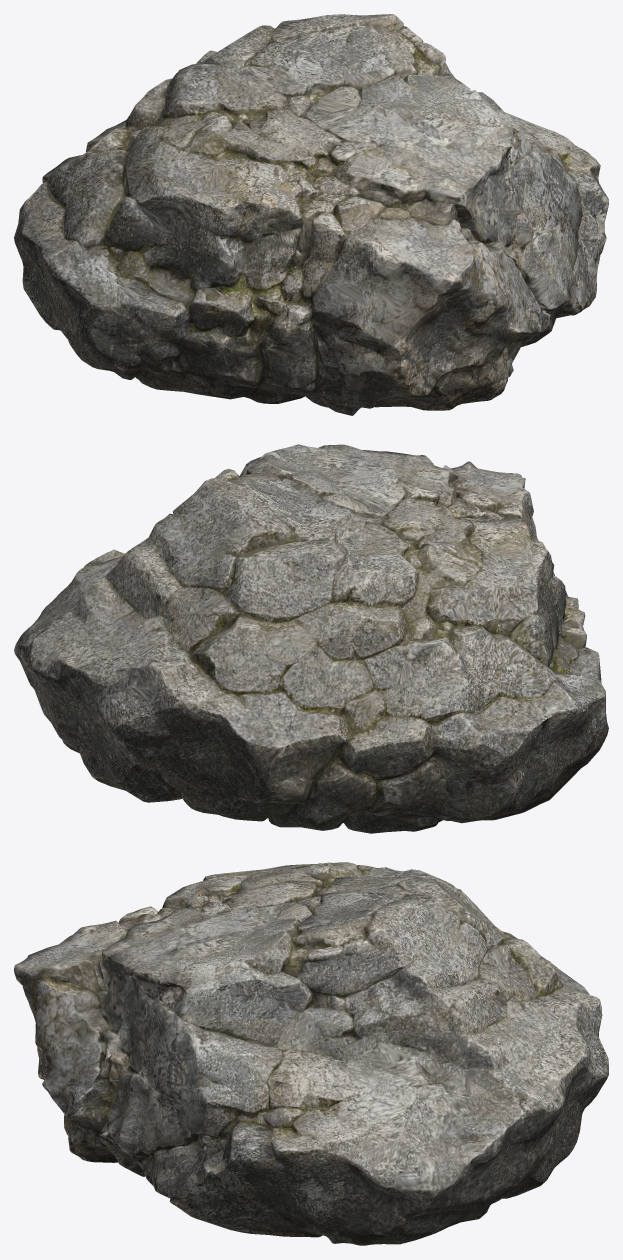
File: LowBoulder.fbx
3 views of the same model, one above another, from view 1: azimuth 30°, elevation 25°; view 2: azimuth 150°, elevation 25°; view 3: azimuth 270°, elevation 25° (orthographic). The views are drawn at different scales.
Visible parts, largest first — view 1: LowBoulder_LOD0; view 2: LowBoulder_LOD0; view 3: LowBoulder_LOD0.
Part boxes in pixels (x1,y1,x2,y2): LowBoulder_LOD0: (14, 14, 608, 415); LowBoulder_LOD0: (14, 444, 608, 833); LowBoulder_LOD0: (14, 862, 608, 1245).
Size of what is drawn, in the model's own units: 240 by 116 by 240.
